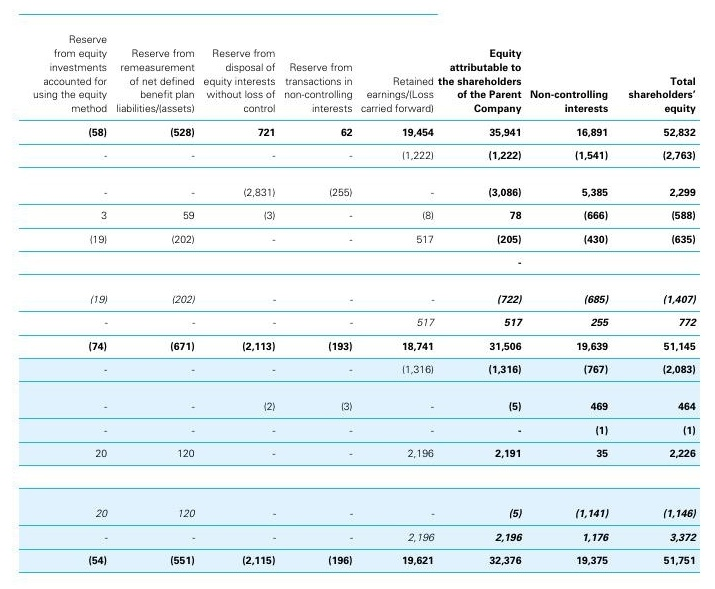table: (0, 0, 715, 589)
